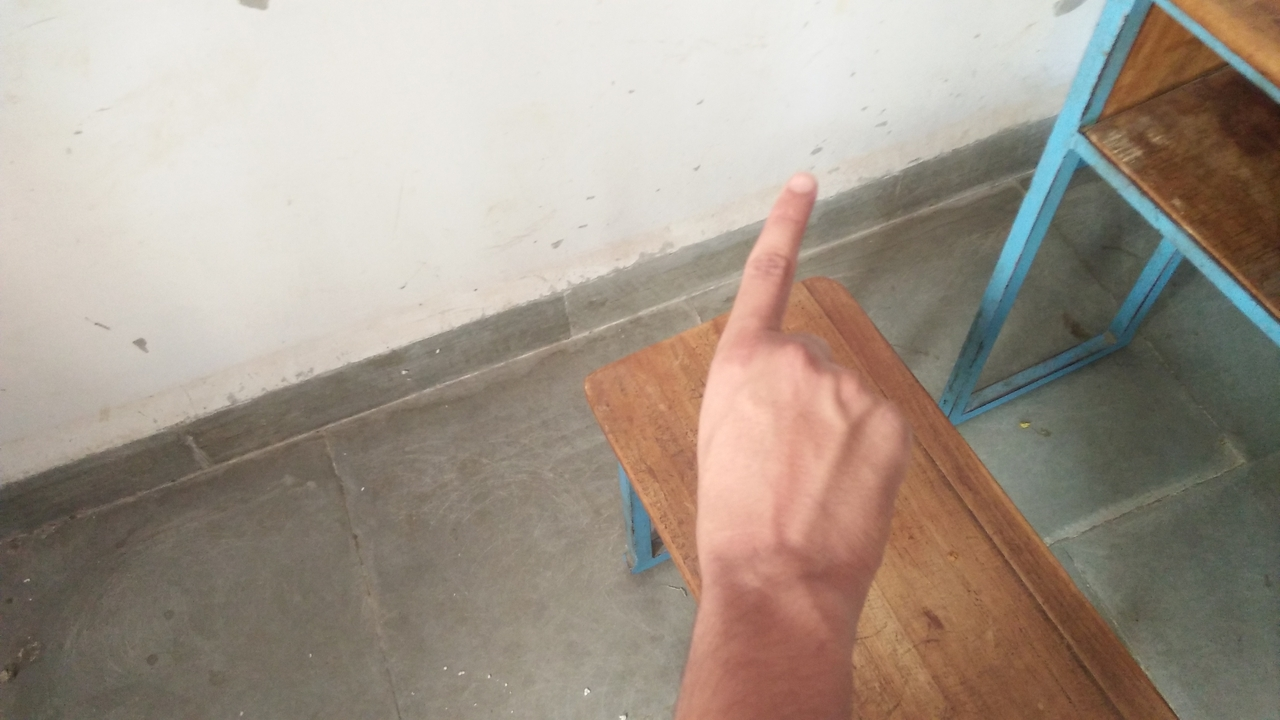fingertip: (772, 160, 826, 206)
